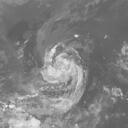cyclone: (40, 44, 88, 94)
